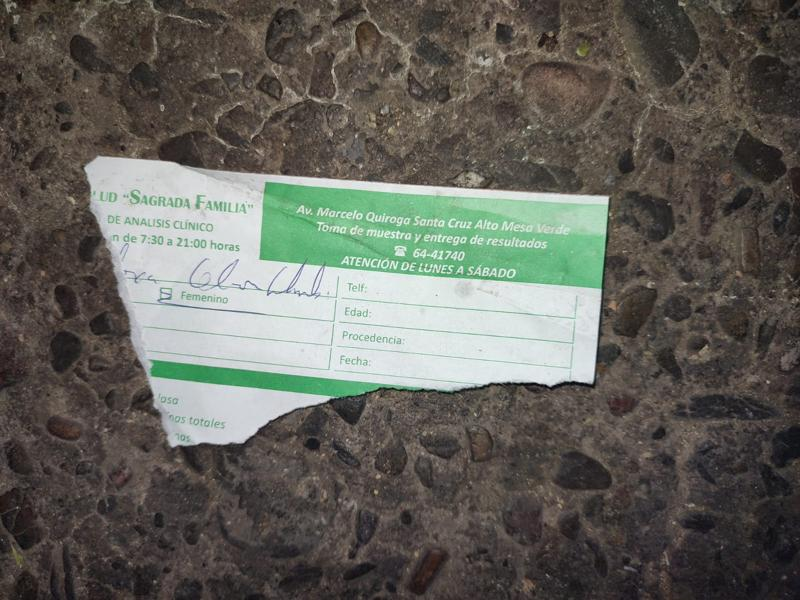papel: (84, 157, 610, 449)
